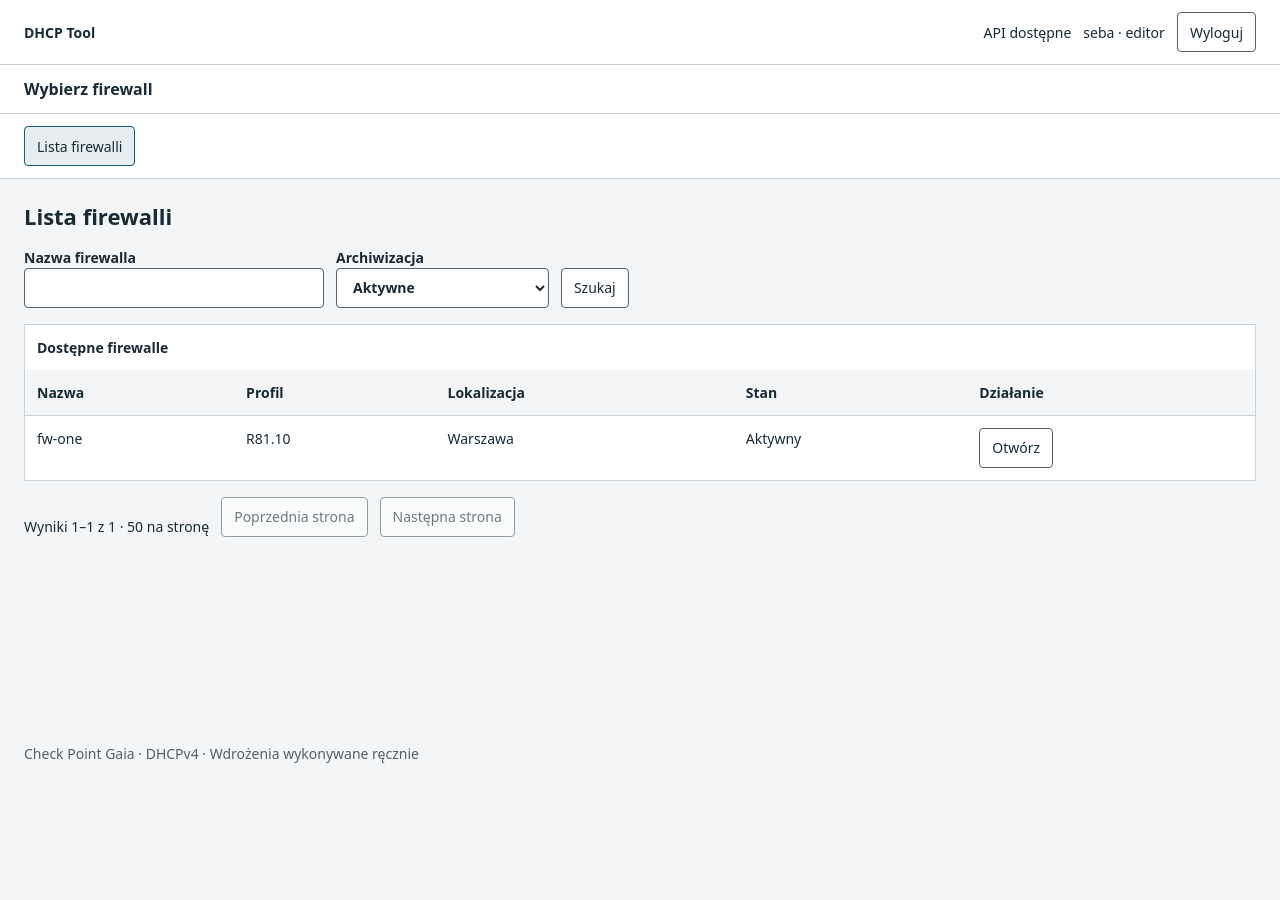
Test: preserves local fields while the same user logs in again after access failure
Click the button with aria-label "Otwórz fw-one": {"x": 1016, "y": 448} x1=979 y1=428 x2=1053 y2=468
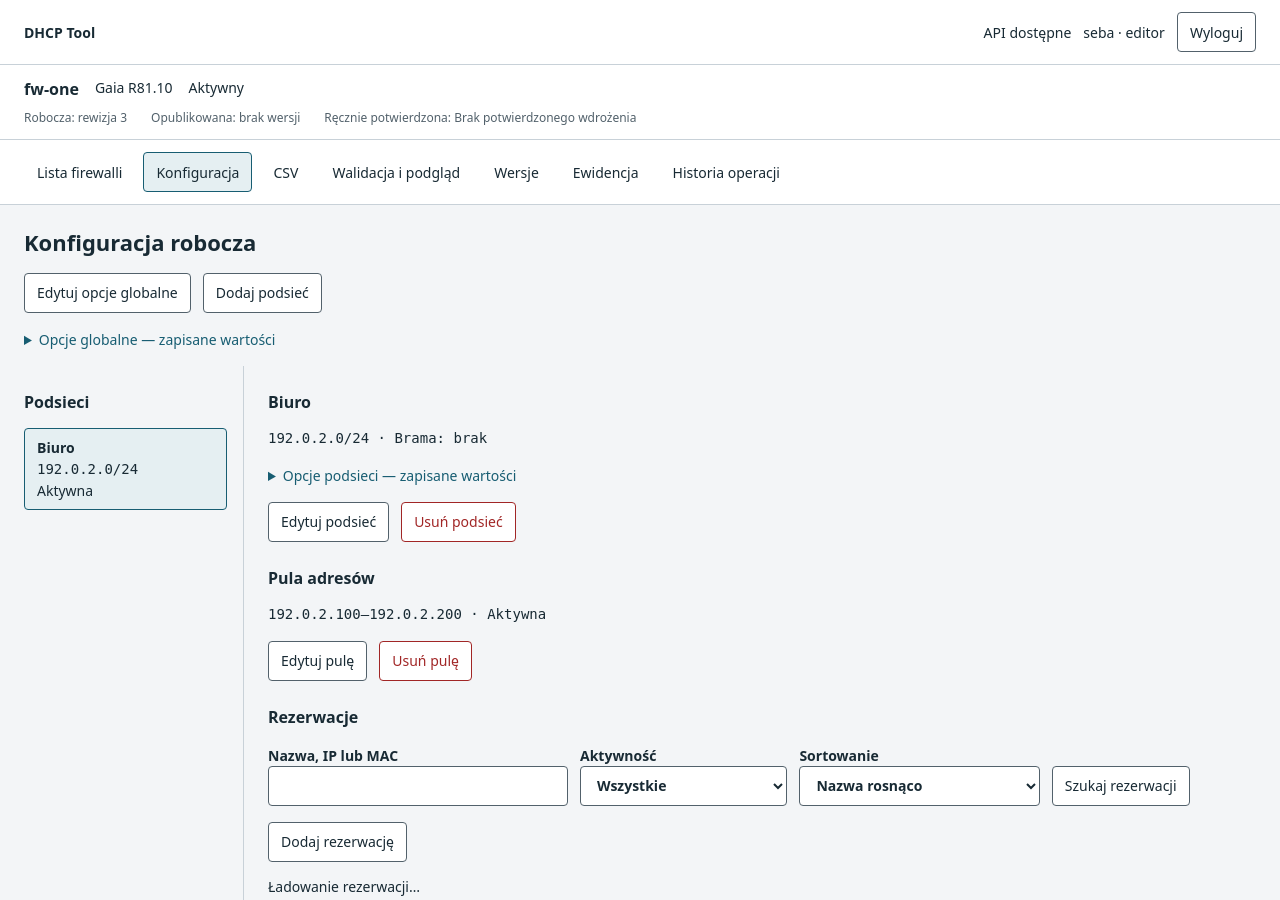
Result: the heading "Konfiguracja robocza" is shown at x1=24 y1=227 x2=256 y2=257
Click the button "Edytuj opcje globalne": {"x": 107, "y": 292} x1=24 y1=272 x2=191 y2=312
(page scrolled)
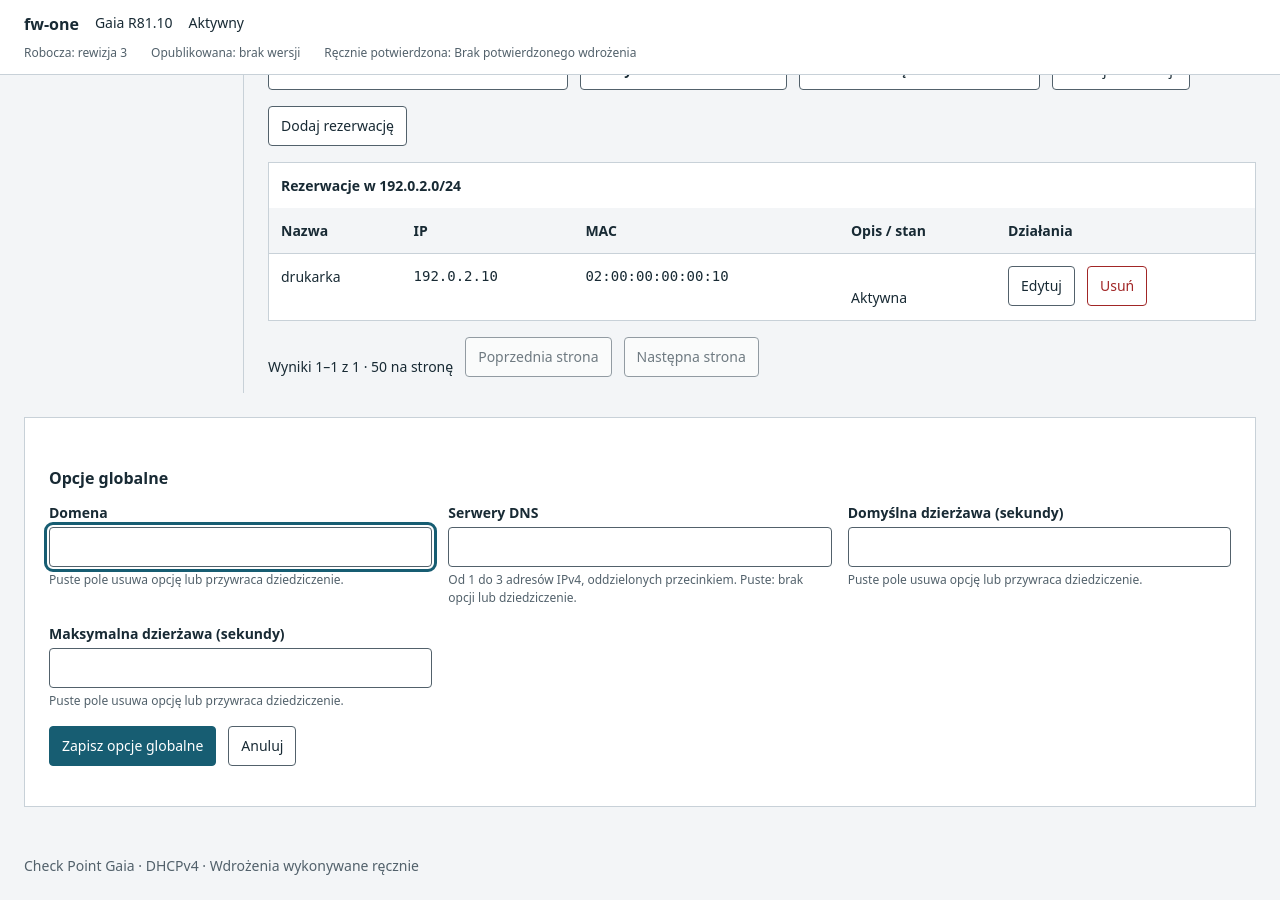
In the field labelled "Domena": {"x": 241, "y": 546} x1=49 y1=526 x2=432 y2=566, type "keep.example"
Click the button "Zapisz opcje globalne": {"x": 133, "y": 746} x1=49 y1=726 x2=216 y2=766
(page scrolled)
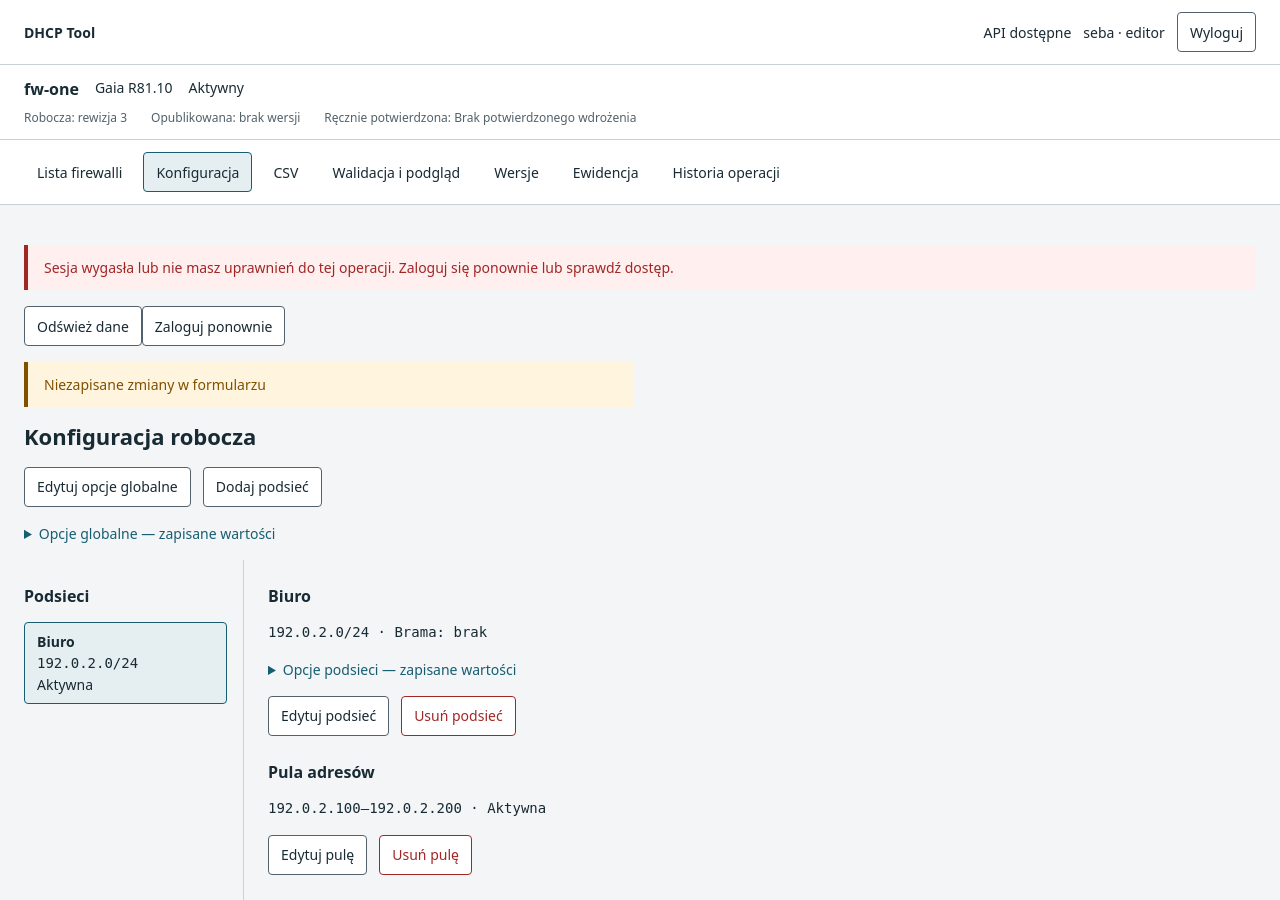
Click the button "Zaloguj ponownie": {"x": 214, "y": 326} x1=142 y1=306 x2=285 y2=346
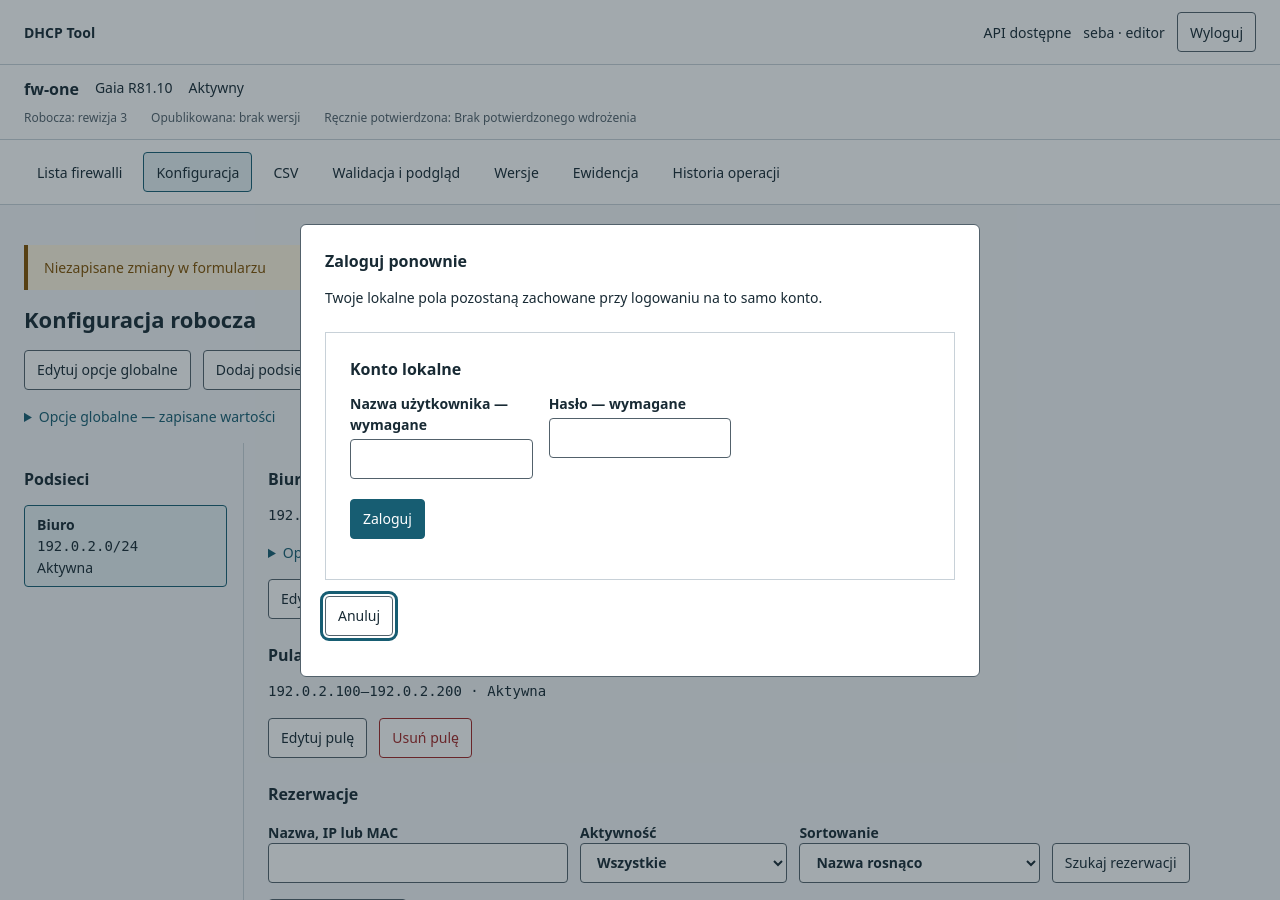
In the field labelled "Nazwa użytkownika — wymagane": {"x": 441, "y": 458} x1=350 y1=438 x2=533 y2=478, type "seba"
In the password field labelled "Hasło — wymagane": {"x": 640, "y": 438} x1=549 y1=418 x2=731 y2=458, type "password"
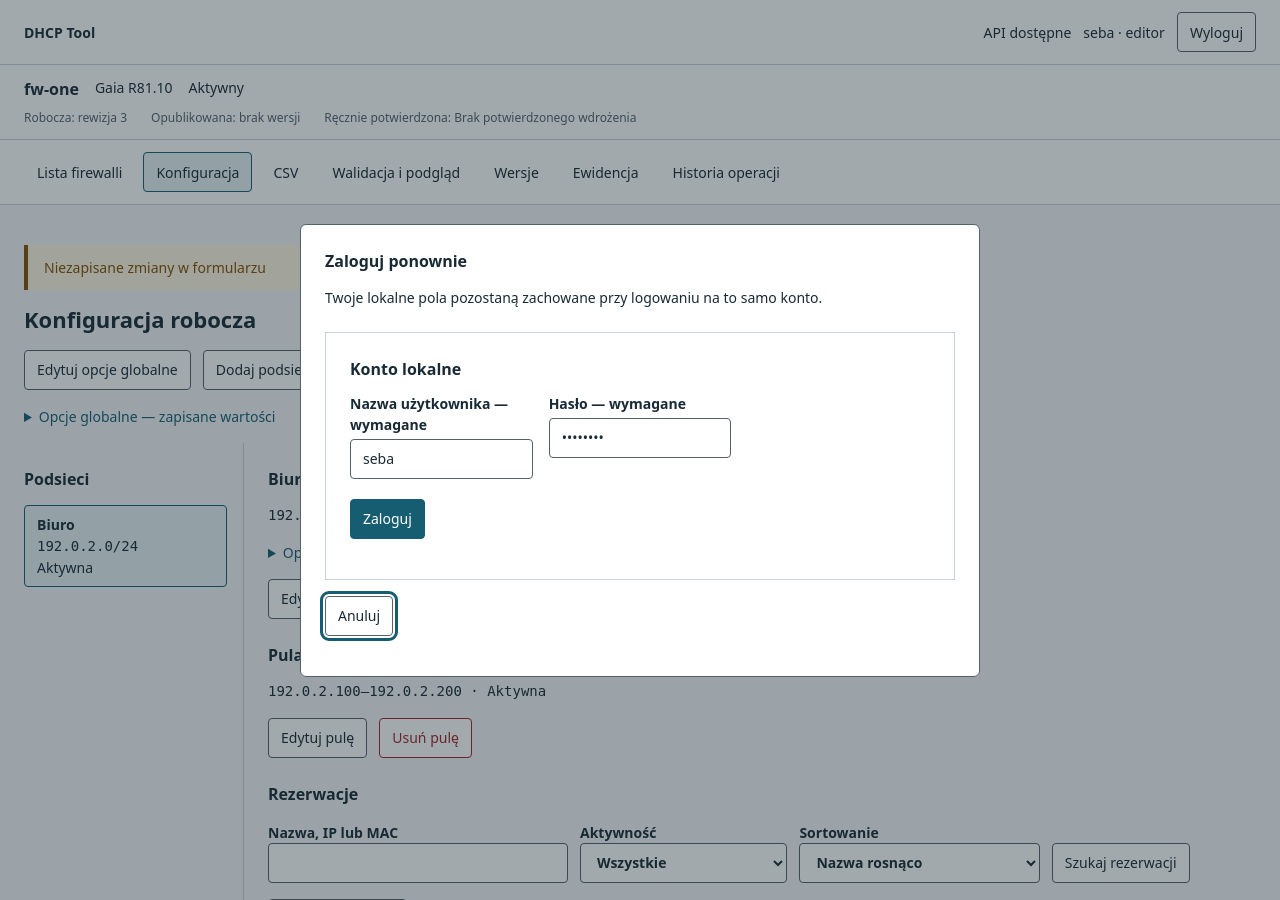
Click the button "Zaloguj": {"x": 387, "y": 518} x1=350 y1=498 x2=425 y2=538
(page scrolled)
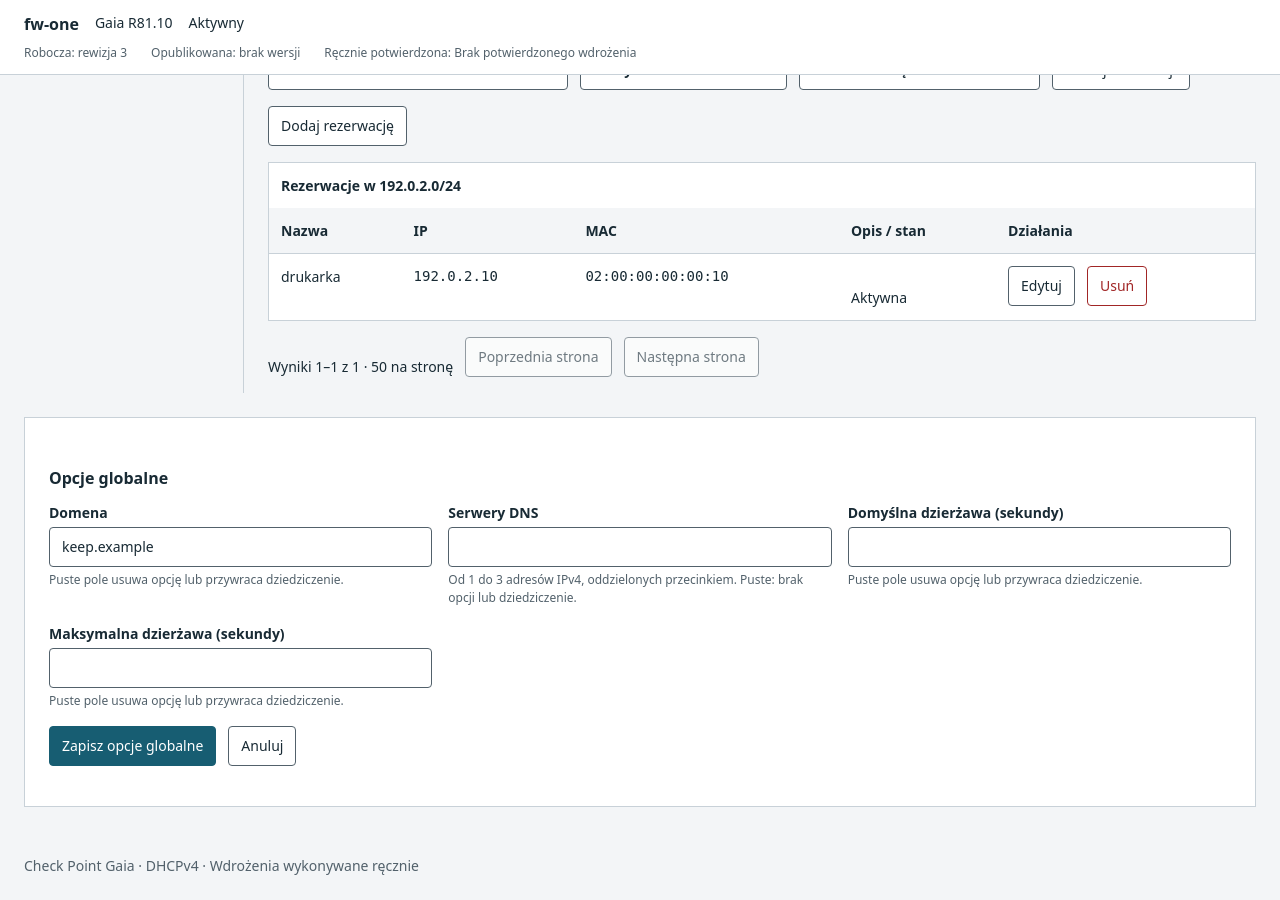
Result: the label labelled "Hasło" is gone
